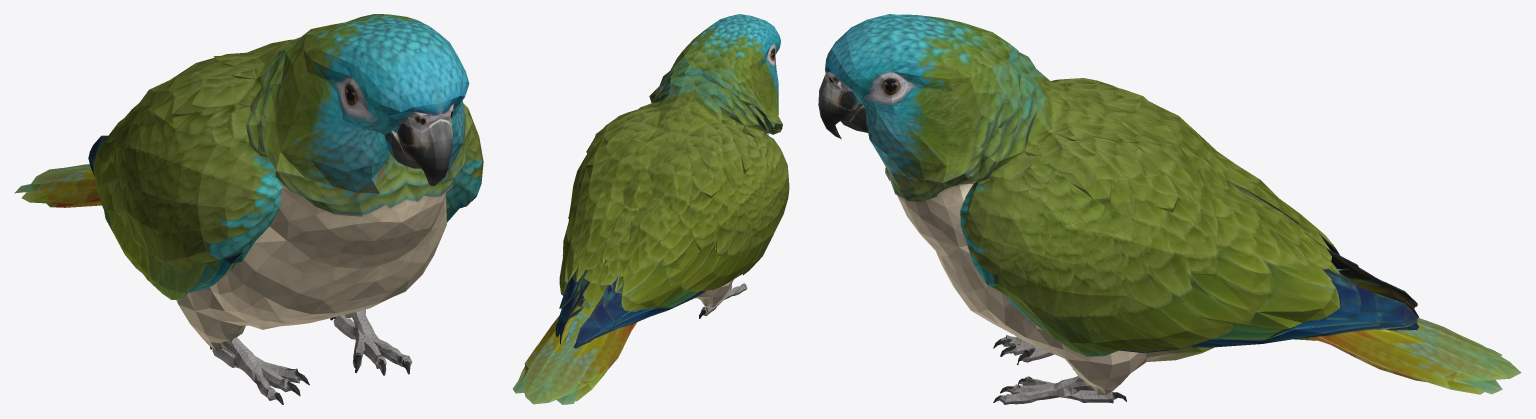
Rendered from amazona-aestiva-3d.glb.
The picture shows the model from 3 angles, left to right: view 1: azimuth 30°, elevation 25°; view 2: azimuth 150°, elevation 25°; view 3: azimuth 270°, elevation 25°; orthographic projection. The views are drawn at different scales.
Size of the model in its own units: 0.4272 by 0.5278 by 0.9531.
Materials: 1 (1 with a texture image).
